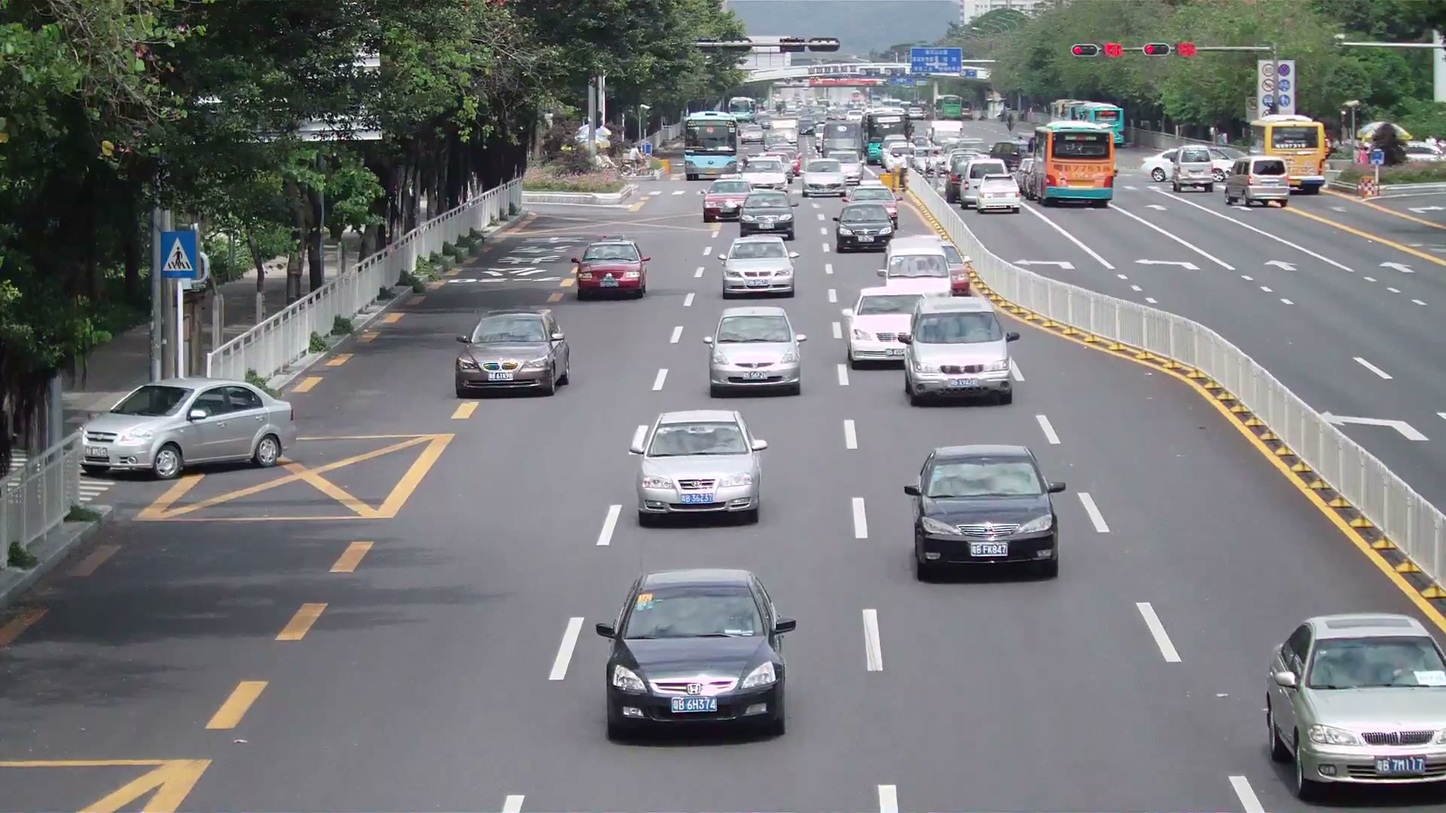bus: (1034, 118, 1117, 207)
car: (596, 567, 797, 744), (1262, 613, 1445, 799), (902, 443, 1067, 583), (80, 378, 293, 480), (628, 406, 770, 527), (903, 298, 1021, 406), (454, 308, 570, 398), (704, 300, 803, 397), (846, 284, 935, 367), (880, 233, 969, 295), (721, 236, 798, 299), (574, 240, 650, 300), (1226, 157, 1292, 209), (834, 202, 896, 252), (739, 190, 796, 239)
truck: (1036, 119, 1117, 207), (1247, 115, 1331, 193), (682, 108, 738, 180), (1225, 156, 1292, 209)
